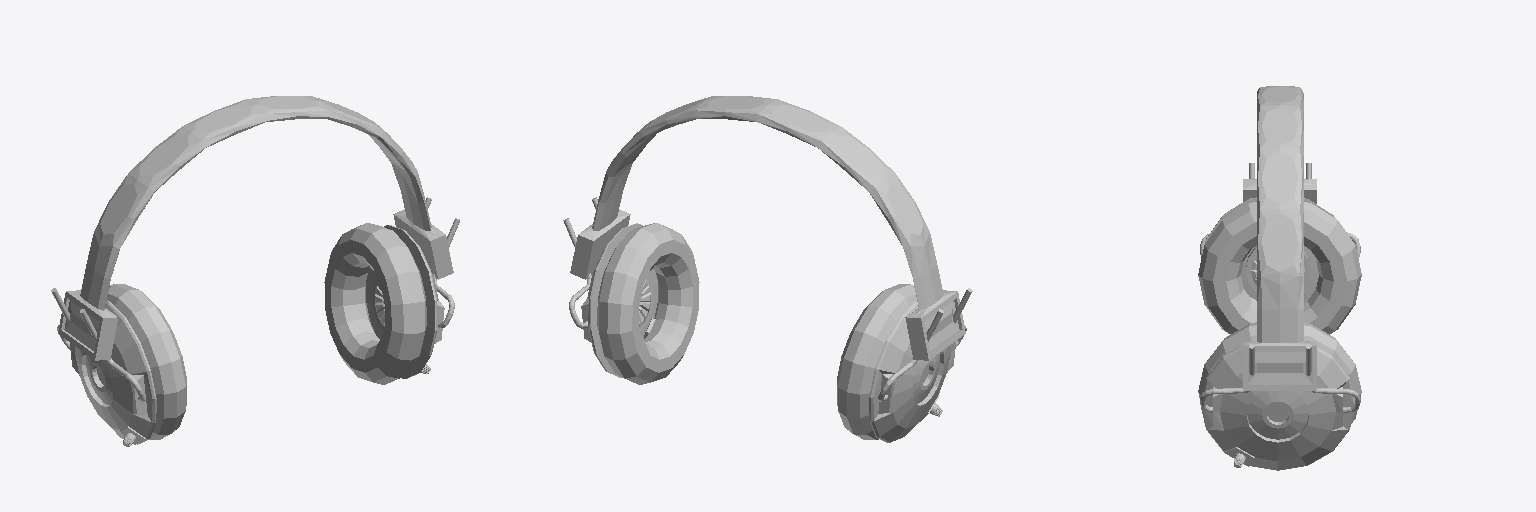
The model's file is headphones2.obj.
The picture shows the model from 3 angles: view 1: azimuth 30°, elevation 25°; view 2: azimuth 150°, elevation 25°; view 3: azimuth 270°, elevation 25°; orthographic projection.
Visible parts, largest first — view 1: head; view 2: head; view 3: head.
Boxes of the visible parts, box(x1,y1,x2,y2) form: head: box(51, 96, 459, 446); head: box(563, 96, 972, 442); head: box(1198, 86, 1361, 470).
Size of the model in its own units: 0.1129 by 0.0857 by 0.0422.